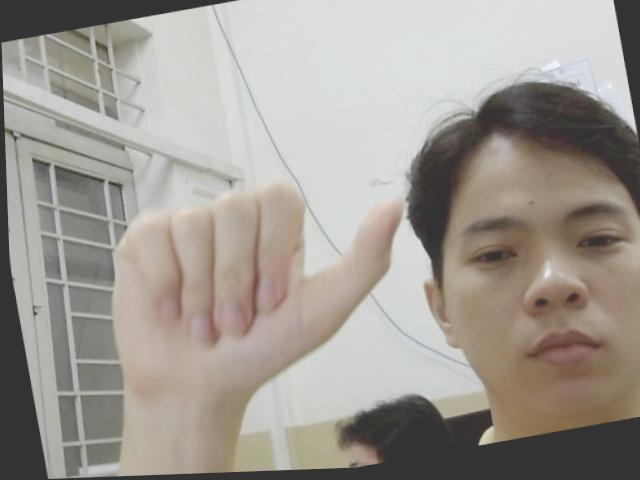A: (85, 161, 433, 418)
